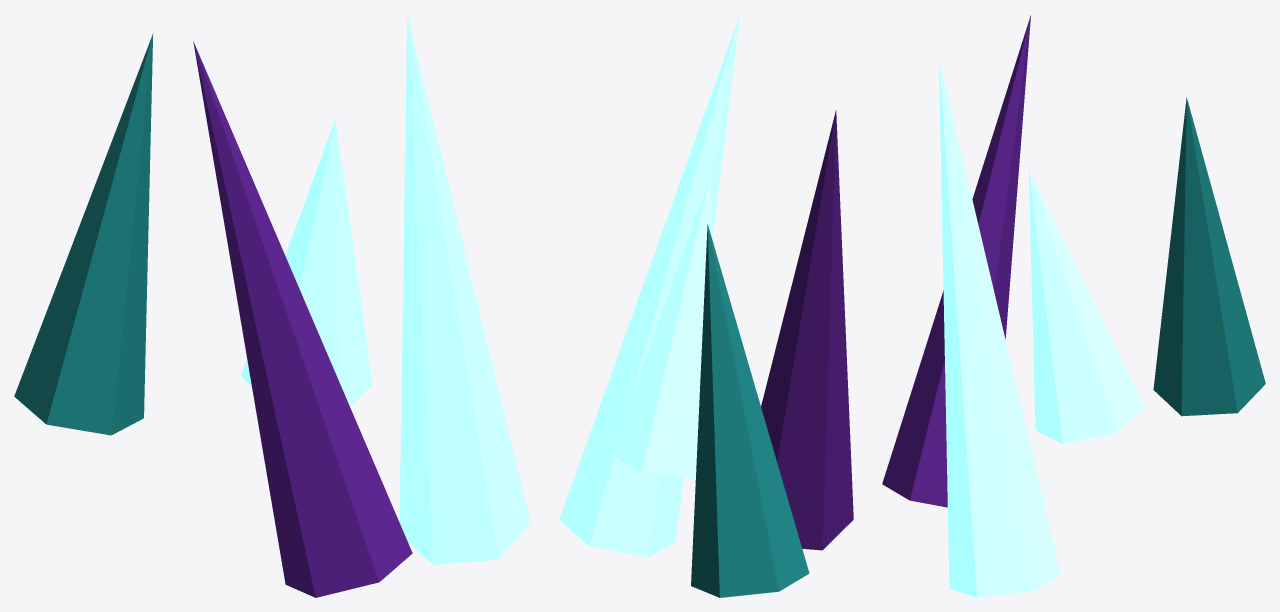
The model's file is Prop_OR_Crystal_05.glb.
3 views of the same model, side by side, from view 1: azimuth 30°, elevation 25°; view 2: azimuth 150°, elevation 25°; view 3: azimuth 270°, elevation 25° (orthographic). The views are drawn at different scales.
Parts seen in each view (by area): view 1: Prop_OR_Crystal_05; view 2: Prop_OR_Crystal_05; view 3: Prop_OR_Crystal_05.
Boxes of the visible parts, bbox=[...] form: Prop_OR_Crystal_05: bbox=[14, 15, 530, 597]; Prop_OR_Crystal_05: bbox=[559, 15, 853, 597]; Prop_OR_Crystal_05: bbox=[882, 15, 1265, 597].
Size of the model in its own units: 0.798 by 1.21 by 0.8515.
